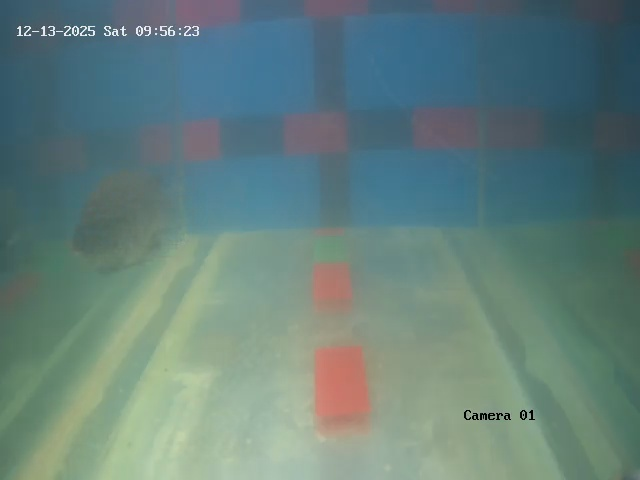fish: (67, 166, 182, 280)
